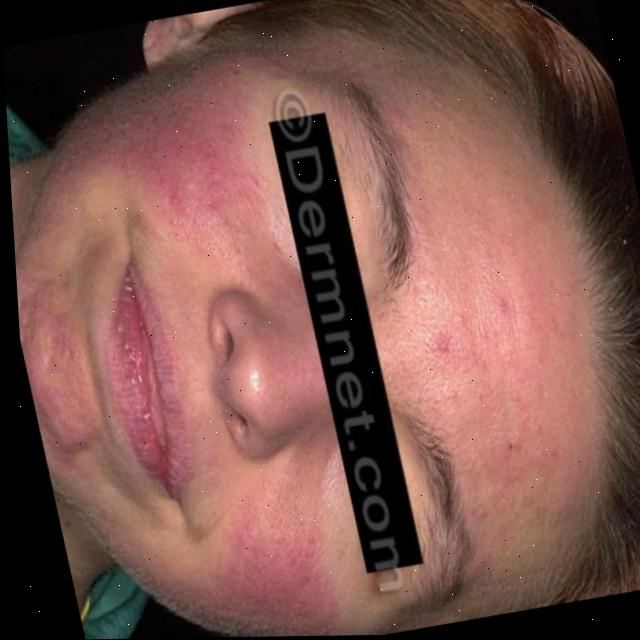Rosacea: (388, 155, 583, 508), (90, 58, 276, 286), (168, 437, 363, 638), (16, 270, 112, 490)
